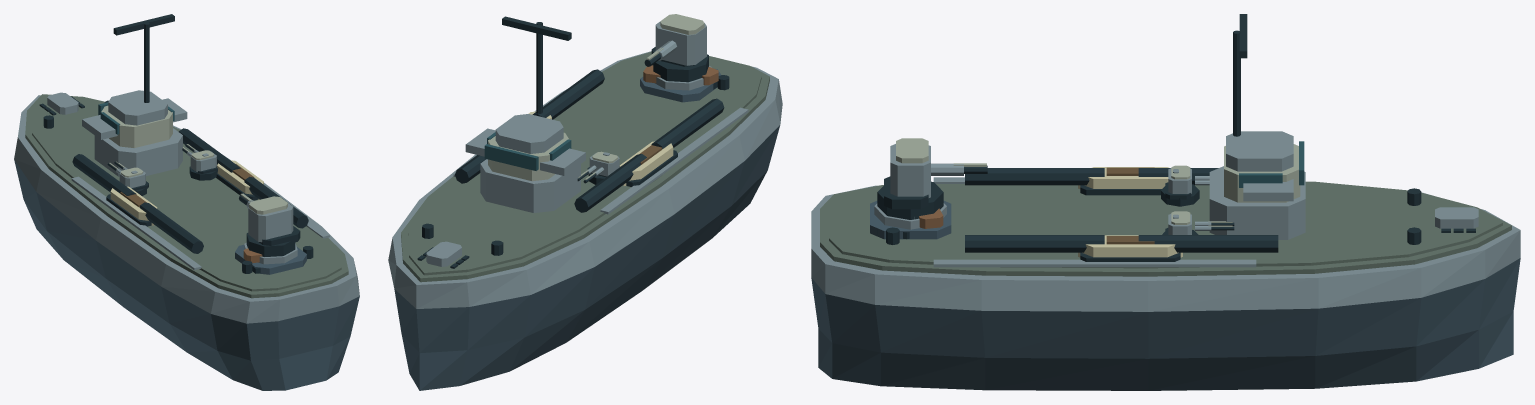
The model's file is patrol-boat.glb.
3 views of the same model, side by side, from view 1: azimuth 30°, elevation 25°; view 2: azimuth 150°, elevation 25°; view 3: azimuth 270°, elevation 25° (orthographic). The views are drawn at different scales.
Parts seen in each view (by area): view 1: patrol-boat-patrol-boat-geometry, patrol-boat-patrol-wheelhouse-geometry, patrol-boat-turret_aa_aa-port.001-geometry, patrol-boat-part_aa-port.001-geometry, patrol-boat-turret_mg_visual_1-geometry, patrol-boat-turret_mg_visual_-1-geometry; view 2: patrol-boat-patrol-boat-geometry, patrol-boat-patrol-wheelhouse-geometry, patrol-boat-turret_aa_aa-port.001-geometry, patrol-boat-part_aa-port.001-geometry, patrol-boat-turret_mg_visual_-1-geometry, patrol-boat-ruin_aa-port-geometry; view 3: patrol-boat-patrol-boat-geometry, patrol-boat-patrol-wheelhouse-geometry, patrol-boat-turret_aa_aa-port.001-geometry, patrol-boat-part_aa-port.001-geometry, patrol-boat-turret_mg_visual_-1-geometry, patrol-boat-turret_mg_visual_1-geometry.
Boxes of the visible parts, x1=… form: patrol-boat-patrol-boat-geometry: x1=14, y1=92, x2=359, y2=390; patrol-boat-patrol-wheelhouse-geometry: x1=82, y1=14, x2=187, y2=176; patrol-boat-turret_aa_aa-port.001-geometry: x1=239, y1=193, x2=300, y2=256; patrol-boat-part_aa-port.001-geometry: x1=235, y1=242, x2=306, y2=274; patrol-boat-turret_mg_visual_1-geometry: x1=182, y1=144, x2=217, y2=180; patrol-boat-turret_mg_visual_-1-geometry: x1=107, y1=161, x2=148, y2=196; patrol-boat-patrol-boat-geometry: x1=388, y1=51, x2=782, y2=390; patrol-boat-patrol-wheelhouse-geometry: x1=465, y1=16, x2=585, y2=212; patrol-boat-turret_aa_aa-port.001-geometry: x1=644, y1=14, x2=708, y2=82; patrol-boat-part_aa-port.001-geometry: x1=640, y1=66, x2=720, y2=102; patrol-boat-turret_mg_visual_-1-geometry: x1=577, y1=151, x2=619, y2=184; patrol-boat-ruin_aa-port-geometry: x1=643, y1=65, x2=718, y2=89; patrol-boat-patrol-boat-geometry: x1=811, y1=167, x2=1520, y2=390; patrol-boat-patrol-wheelhouse-geometry: x1=1209, y1=14, x2=1305, y2=239; patrol-boat-turret_aa_aa-port.001-geometry: x1=877, y1=138, x2=987, y2=219; patrol-boat-part_aa-port.001-geometry: x1=870, y1=201, x2=951, y2=239; patrol-boat-turret_mg_visual_-1-geometry: x1=1161, y1=165, x2=1209, y2=206; patrol-boat-turret_mg_visual_1-geometry: x1=1162, y1=211, x2=1234, y2=234.
Size of the model in its own units: 1.17 by 1.63 by 3.25.
